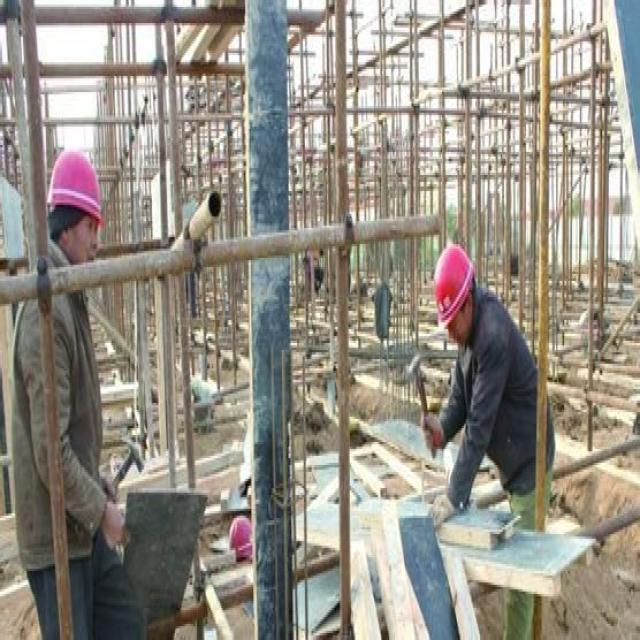helmet: (41, 138, 101, 210), (433, 233, 471, 315)
